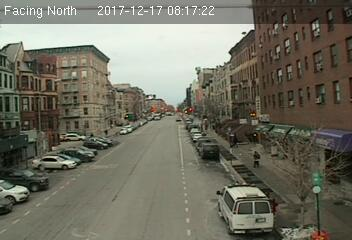car: (201, 143, 220, 159)
pedestrian: (251, 149, 263, 170)
police: (216, 180, 277, 236)
